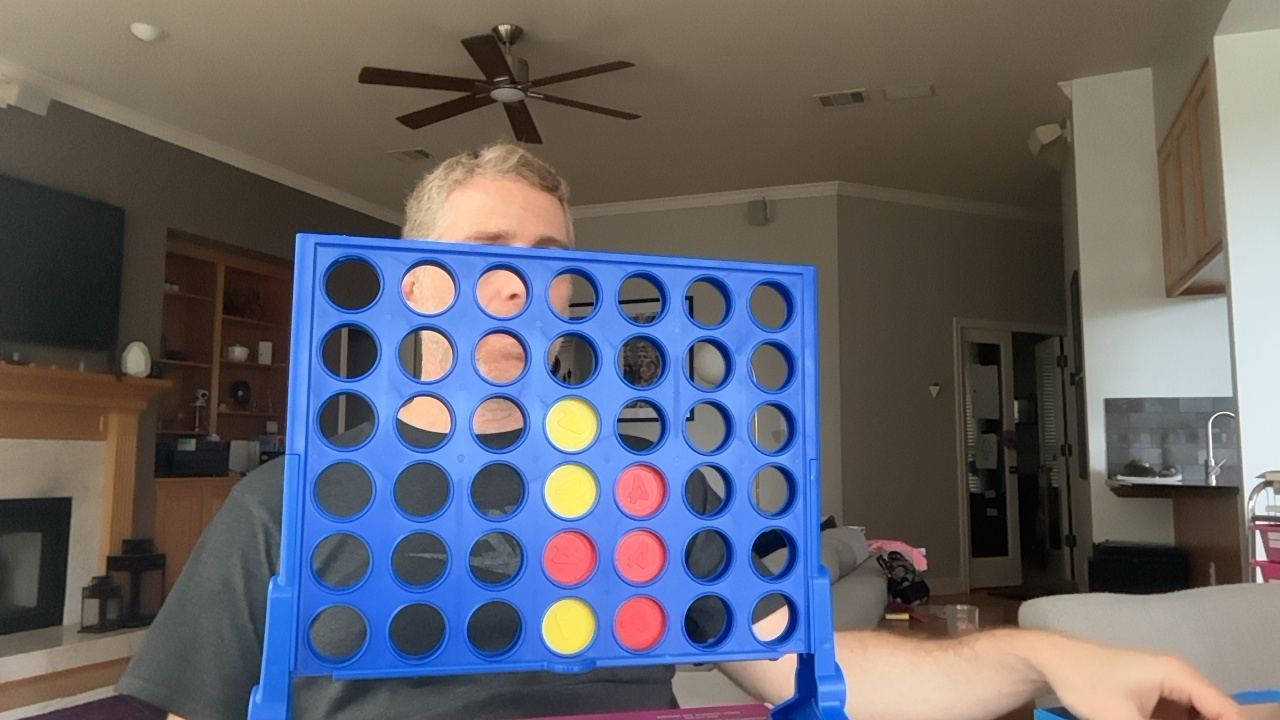red piece: (544, 530, 597, 586), (614, 596, 666, 651), (615, 464, 667, 518), (615, 530, 666, 583)
yellow piece: (542, 598, 596, 655), (544, 463, 598, 519), (546, 397, 599, 451)
